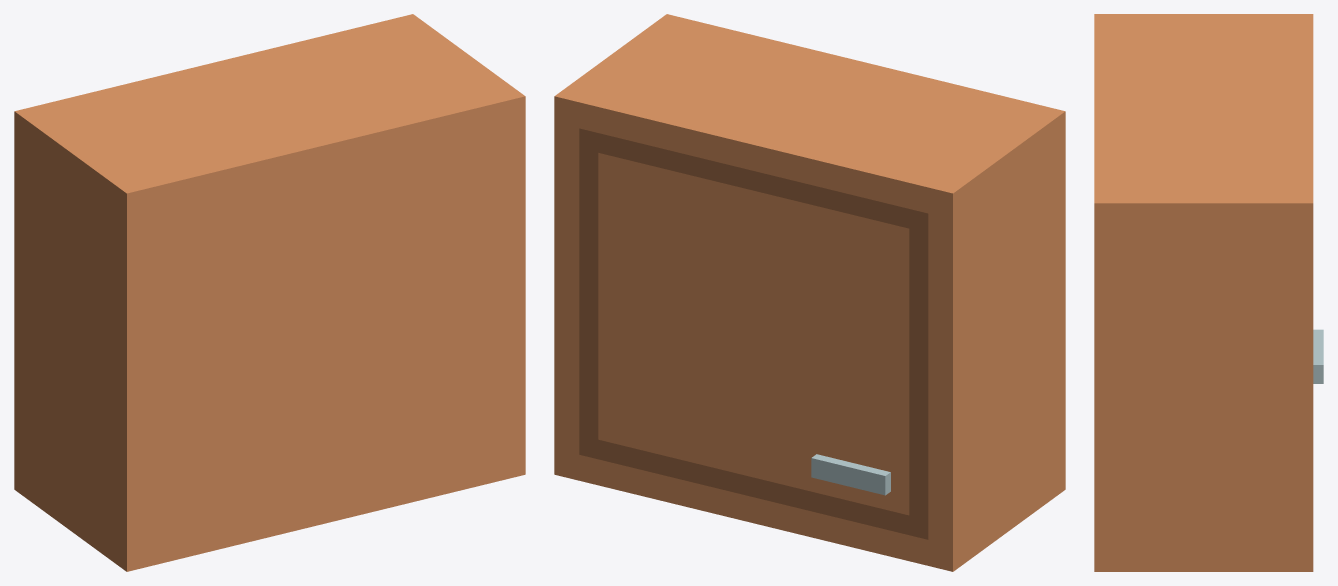
File: kitchenCabinetUpper.fbx
3 renders of one model, left to right at view 1: azimuth 30°, elevation 25°; view 2: azimuth 150°, elevation 25°; view 3: azimuth 270°, elevation 25°, orthographic. The views are drawn at different scales.
Parts seen in each view (by area): view 1: kitchenCabinetUpper; view 2: kitchenCabinetUpper, door; view 3: kitchenCabinetUpper, door.
Boxes of the visible parts, x1,y1,x2,y2 form: kitchenCabinetUpper: (14, 14, 525, 571); kitchenCabinetUpper: (554, 14, 1065, 571); door: (579, 128, 928, 539); kitchenCabinetUpper: (1094, 14, 1313, 571); door: (1313, 329, 1323, 383).
Size of the model in its own units: 4.3 by 3.9 by 2.2.
